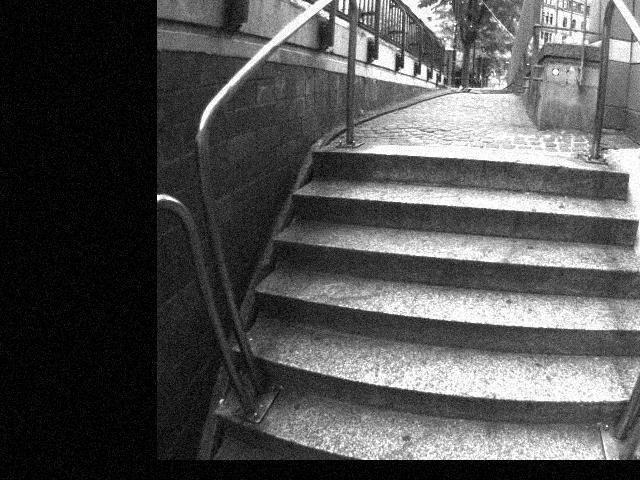Escaleras: (266, 141, 640, 459)
